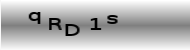1: (88, 16, 103, 31)
D: (63, 23, 81, 37)
R: (47, 17, 63, 31)
q: (28, 10, 41, 25)
s: (105, 14, 121, 25)
